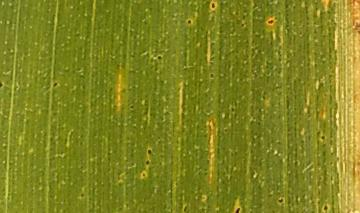tarspot: (184, 16, 195, 28), (153, 53, 166, 63), (49, 79, 61, 89), (207, 1, 219, 11), (318, 131, 327, 143), (205, 70, 217, 79), (142, 160, 155, 168), (233, 203, 243, 213), (276, 195, 287, 204), (321, 202, 330, 213), (267, 16, 276, 27), (145, 147, 155, 156)
